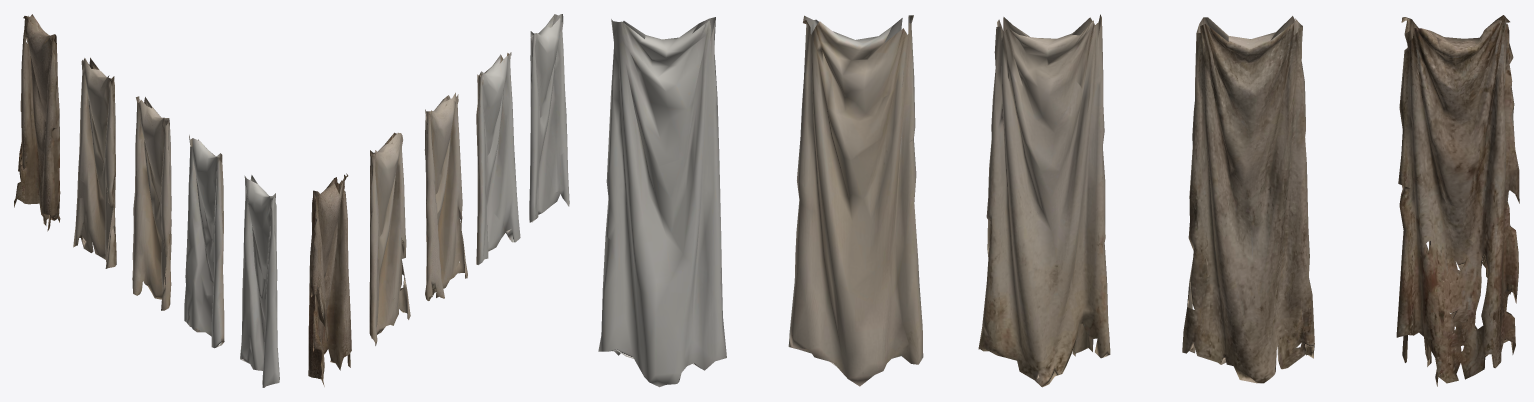
The model's file is MoreSheets.fbx.
3 views of the same model, side by side, from view 1: azimuth 30°, elevation 25°; view 2: azimuth 150°, elevation 25°; view 3: azimuth 270°, elevation 25° (orthographic). The views are drawn at different scales.
Parts seen in each view (by area): view 1: tripo_node_7f86d731-9f87-4d1f-b6f7-adb4fa11e447, tripo_node_7f86d731-9f87-4d1f-b6f7-adb4fa11e447.001, tripo_node_7f86d731-9f87-4d1f-b6f7-adb4fa11e447.004, tripo_node_7f86d731-9f87-4d1f-b6f7-adb4fa11e447.003, tripo_node_7f86d731-9f87-4d1f-b6f7-adb4fa11e447.002; view 2: tripo_node_7f86d731-9f87-4d1f-b6f7-adb4fa11e447, tripo_node_7f86d731-9f87-4d1f-b6f7-adb4fa11e447.003, tripo_node_7f86d731-9f87-4d1f-b6f7-adb4fa11e447.002, tripo_node_7f86d731-9f87-4d1f-b6f7-adb4fa11e447.001, tripo_node_7f86d731-9f87-4d1f-b6f7-adb4fa11e447.004; view 3: tripo_node_7f86d731-9f87-4d1f-b6f7-adb4fa11e447.003, tripo_node_7f86d731-9f87-4d1f-b6f7-adb4fa11e447.004, tripo_node_7f86d731-9f87-4d1f-b6f7-adb4fa11e447.001, tripo_node_7f86d731-9f87-4d1f-b6f7-adb4fa11e447.002, tripo_node_7f86d731-9f87-4d1f-b6f7-adb4fa11e447.
Part boxes in pixels (x1,y1,x2,y2): tripo_node_7f86d731-9f87-4d1f-b6f7-adb4fa11e447: (14, 14, 60, 231); tripo_node_7f86d731-9f87-4d1f-b6f7-adb4fa11e447.001: (132, 96, 171, 310); tripo_node_7f86d731-9f87-4d1f-b6f7-adb4fa11e447.004: (73, 57, 116, 268); tripo_node_7f86d731-9f87-4d1f-b6f7-adb4fa11e447.003: (184, 135, 224, 348); tripo_node_7f86d731-9f87-4d1f-b6f7-adb4fa11e447.002: (240, 175, 279, 387); tripo_node_7f86d731-9f87-4d1f-b6f7-adb4fa11e447: (308, 173, 351, 386); tripo_node_7f86d731-9f87-4d1f-b6f7-adb4fa11e447.003: (476, 52, 520, 264); tripo_node_7f86d731-9f87-4d1f-b6f7-adb4fa11e447.002: (529, 14, 569, 222); tripo_node_7f86d731-9f87-4d1f-b6f7-adb4fa11e447.001: (424, 92, 467, 300); tripo_node_7f86d731-9f87-4d1f-b6f7-adb4fa11e447.004: (369, 132, 410, 345); tripo_node_7f86d731-9f87-4d1f-b6f7-adb4fa11e447.003: (788, 15, 923, 386); tripo_node_7f86d731-9f87-4d1f-b6f7-adb4fa11e447.004: (1182, 16, 1314, 383); tripo_node_7f86d731-9f87-4d1f-b6f7-adb4fa11e447.001: (978, 14, 1110, 387); tripo_node_7f86d731-9f87-4d1f-b6f7-adb4fa11e447.002: (598, 17, 726, 387); tripo_node_7f86d731-9f87-4d1f-b6f7-adb4fa11e447: (1396, 15, 1519, 386).
Bounding box in the file's own units: 7.57 × 55.61 × 129.
1 material, 1 textured.
